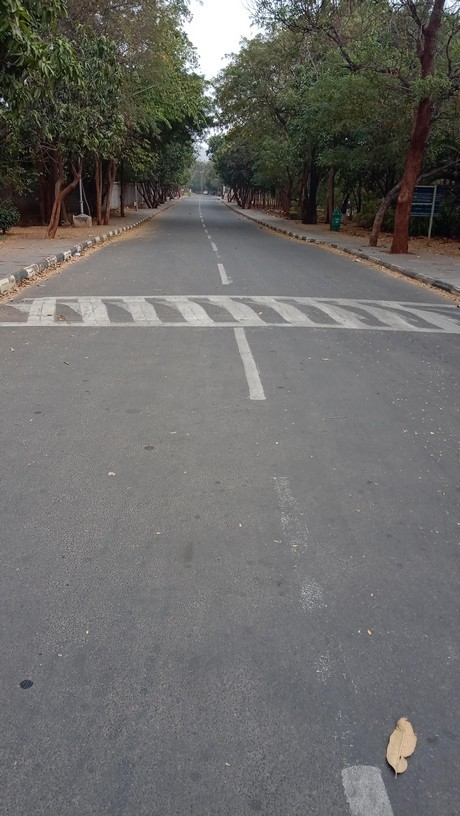bump: (1, 294, 460, 327)
